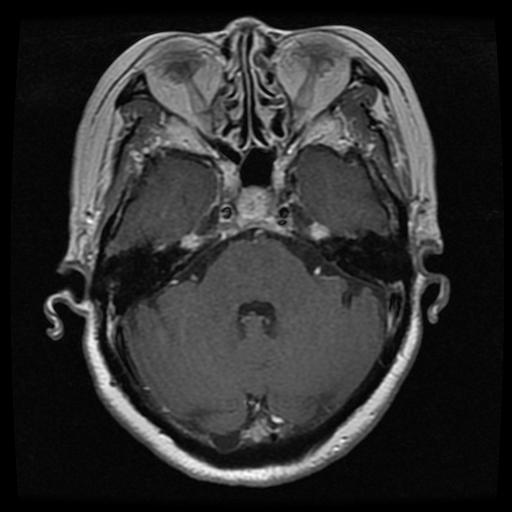Pituirity_tumour: (234, 186, 274, 219)
